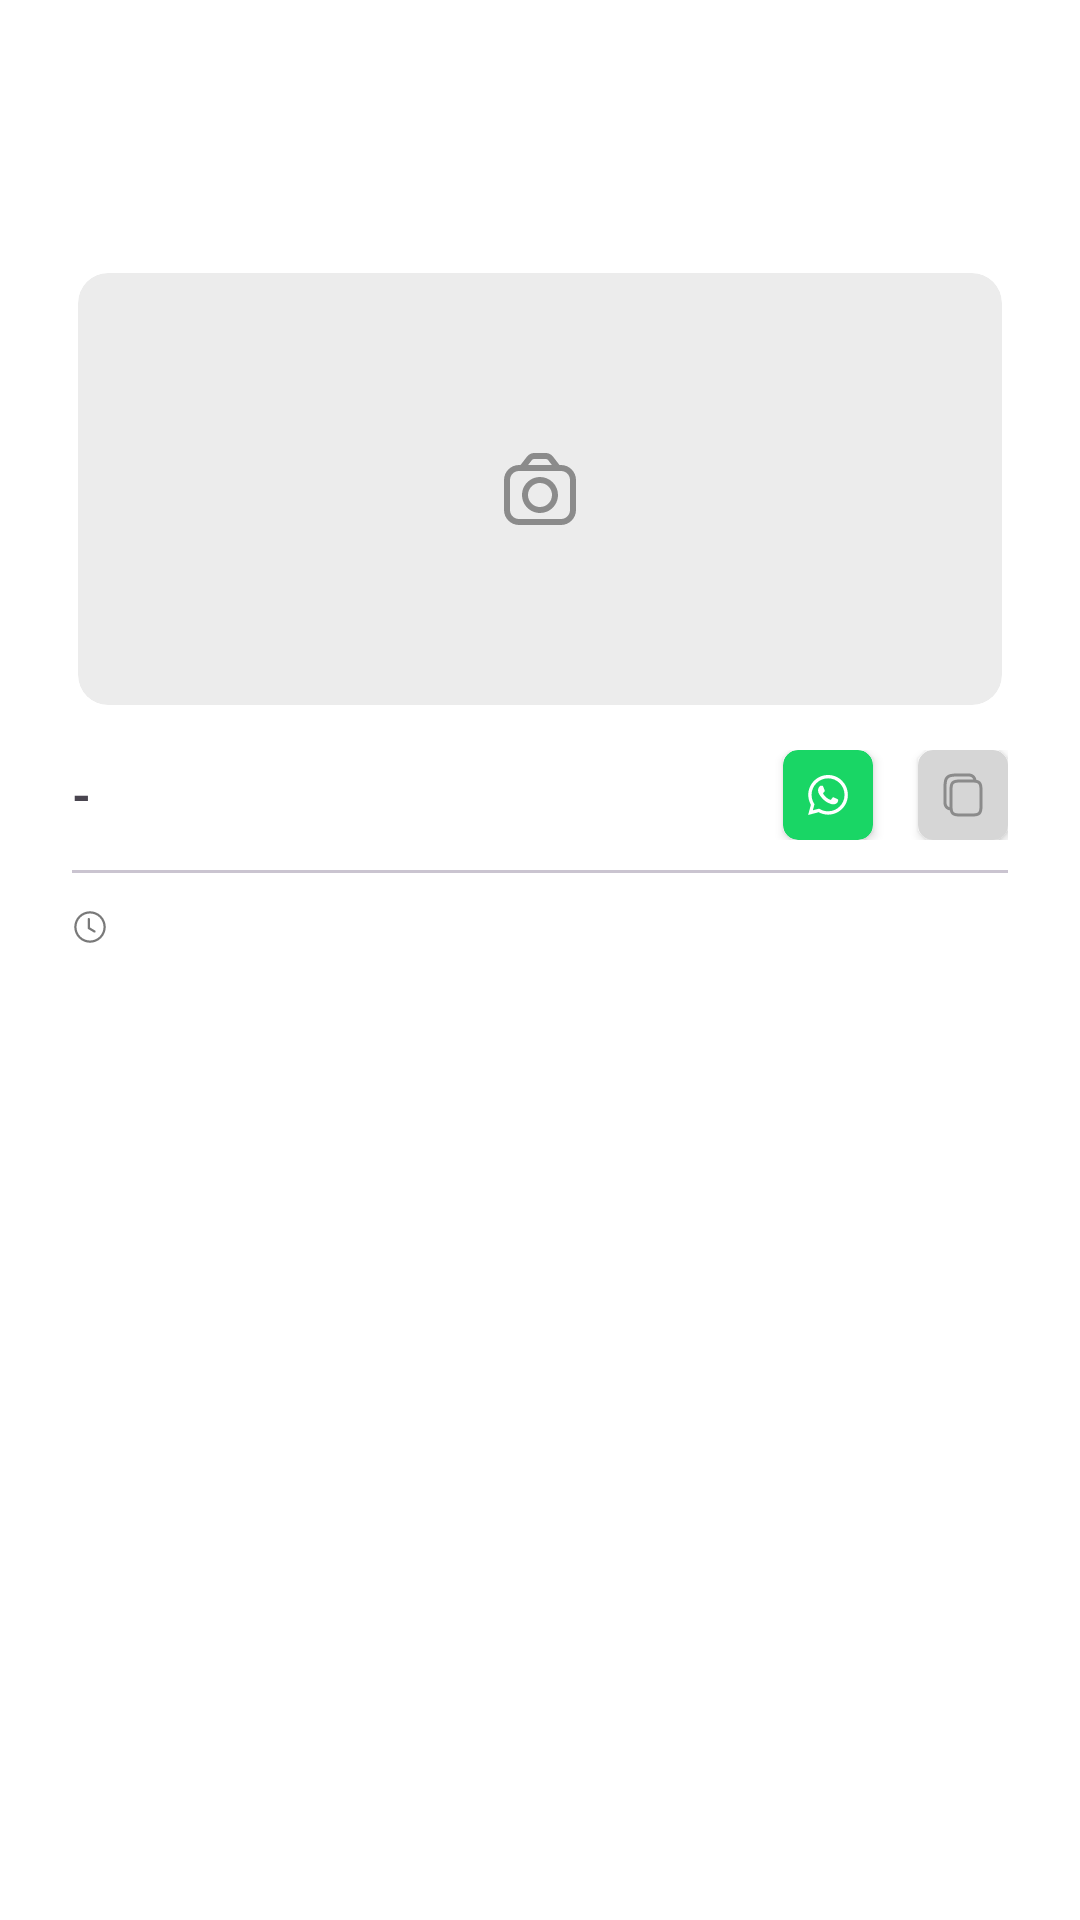

Where icons sit on this 1080px×1920px app screen, as box(x1, y1, x2, y2):
camera: box(504, 453, 576, 525)
formkit time: box(74, 911, 106, 943)
